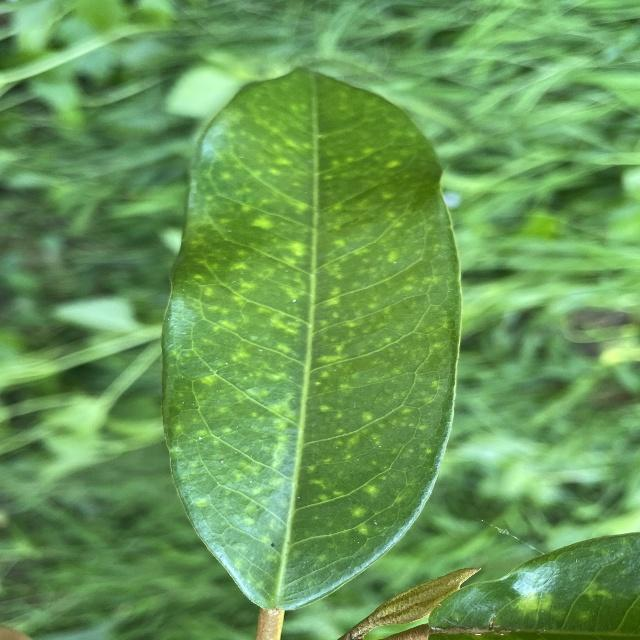Leaf Spot: (145, 64, 477, 619)
